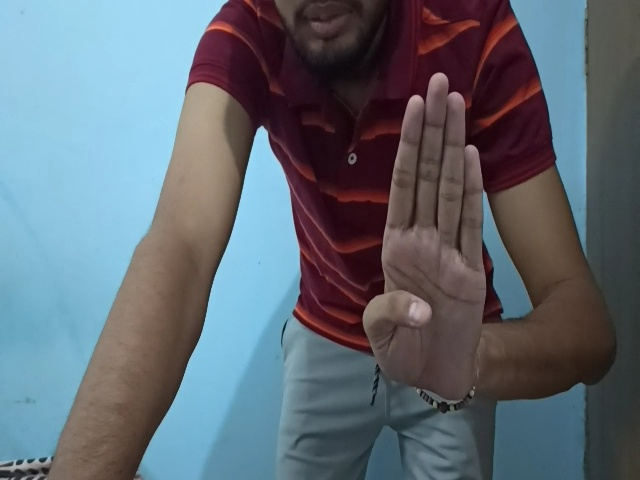B: (362, 73, 486, 403)
